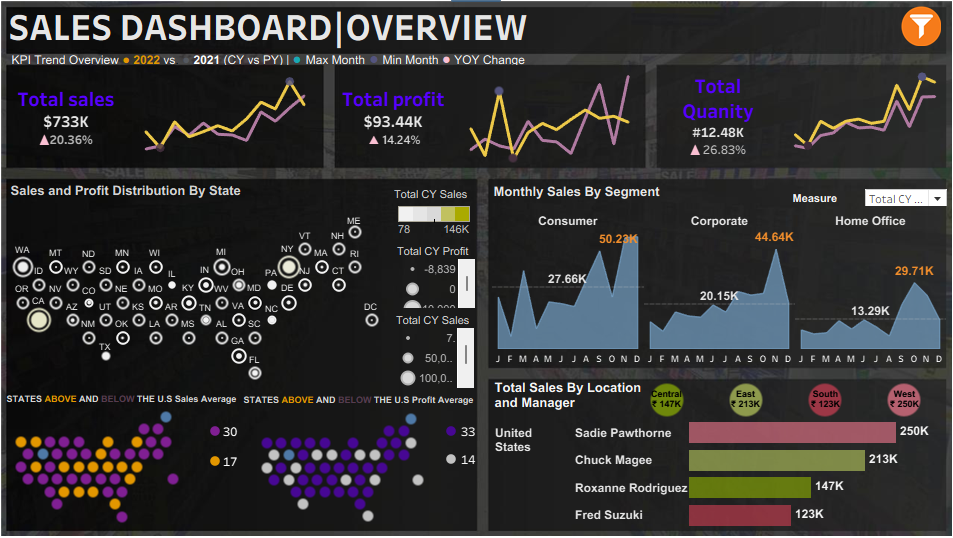

The dashboard page shown, as its layout file describes it:
{"tool":"tableau","page":{"name":"Sales Dashboard","canvas":[999,580],"ordinal":0},"visuals":[{"type":"image","param":"Image/Sales Dashboard Background.pptx.jpg","box":[8,8,983,543]},{"type":"dashboard-object","box":[921,17,47,40]},{"type":"text","box":[29,19,545,46]},{"type":"filter","title":"Sales and profit by state","param":"[federated.15e5lh70ks18o413ukp1u090hqqv].[none:Region:nk]","box":[759,60,154,52]},{"type":"text","box":[32,64,528,12]},{"type":"worksheet","title":"Qty KPI ","mark":"Automatic","box":[686,83,121,101]},{"type":"worksheet","title":"Qty sparkline ","mark":"Automatic","rows":["Calculation_609111855681368065"],"cols":["Order Date"],"box":[807,83,173,101]},{"type":"worksheet","title":"profit KPI ","mark":"Automatic","box":[357,84,118,101]},{"type":"worksheet","title":"Profit sparkline","mark":"Automatic","rows":["Calculation_609111855678111744"],"cols":["Order Date"],"box":[475,84,194,101]},{"type":"worksheet","title":"Sales KPI ","mark":"Automatic","box":[18,87,123,95]},{"type":"worksheet","title":"sales sparkline","mark":"Automatic","rows":["Calculation_180988415876784128"],"cols":["Order Date"],"box":[141,87,195,95]},{"type":"filter","title":"Sales and profit by state","param":"[federated.15e5lh70ks18o413ukp1u090hqqv].[none:Ship Mode:nk]","box":[759,112,154,52]},{"type":"filter","title":"Sales and profit by state","param":"[federated.15e5lh70ks18o413ukp1u090hqqv].[none:Category:nk]","box":[759,164,154,52]},{"type":"text","box":[514,190,212,25]},{"type":"text","box":[31,195,301,36]},{"type":"legend","title":"Sales and profit by state","param":"[federated.15e5lh70ks18o413ukp1u090hqqv].[sum:Calculation_1029353995550695424:qk","box":[417,199,80,51]},{"type":"parameter","param":"[Parameters].[Parameter 1]","box":[813,200,160,17]},{"type":"worksheet","title":"Monthly Sales By Segment","mark":"Area","rows":["Calculation_919860231210176519"],"cols":["Segment","Order Date"],"box":[515,222,455,158]},{"type":"worksheet","title":"Sales and profit by state","mark":"Circle","rows":["Row"],"cols":["Column","Column"],"box":[19,225,399,177]},{"type":"legend","title":"Sales and profit by state","param":"[federated.15e5lh70ks18o413ukp1u090hqqv].[sum:Calculation_1029353995561582596:qk","box":[420,256,80,63]},{"type":"legend","title":"Sales and profit by state","param":"[federated.15e5lh70ks18o413ukp1u090hqqv].[sum:Calculation_1029353995550695424:qk","box":[419,325,80,74]},{"type":"text","box":[515,391,154,30]},{"type":"worksheet","title":"Region wise Sales","mark":"Circle","cols":["Region"],"box":[650,392,317,38]},{"type":"text","box":[27,399,237,17]},{"type":"text","box":[264,402,236,15]},{"type":"worksheet","title":"Avg sales by state","mark":"Circle","rows":["Row"],"cols":["Column"],"box":[31,415,178,125]},{"type":"worksheet","title":"Avg Profit by state ","mark":"Circle","rows":["Row"],"cols":["Column"],"box":[277,418,177,121]},{"type":"worksheet","title":"Total sales By Location and Manager","mark":"Automatic","rows":["Country/Region","Regional Manager"],"cols":["Calculation_1029353995550695424"],"box":[512,430,454,110]},{"type":"worksheet","title":"Avg Sales By State count","mark":"Circle","rows":["Calculation_919860231146348546"],"box":[198,462,51,60]},{"type":"worksheet","title":"Avg Profit By State count","mark":"Circle","rows":["sales Avg Color (copy)_919860231151083525"],"box":[437,465,55,56]},{"type":"text","box":[8,551,983,21]}]}

Visuals, with their boxes in screenshot pixels (x1, y1, x2, y2), scaled from the page's 999x580 canvas onto the 953x538 screenshot:
image: Rect(8, 7, 945, 511)
dashboard-object: Rect(879, 16, 923, 53)
text: Rect(28, 18, 548, 60)
"Sales and profit by state" filter: Rect(724, 56, 871, 104)
text: Rect(31, 59, 534, 70)
"Qty KPI " worksheet: Rect(654, 77, 770, 171)
"Qty sparkline " worksheet: Rect(770, 77, 935, 171)
"profit KPI " worksheet: Rect(341, 78, 453, 172)
"Profit sparkline" worksheet: Rect(453, 78, 638, 172)
"Sales KPI " worksheet: Rect(17, 81, 135, 169)
"sales sparkline" worksheet: Rect(135, 81, 321, 169)
"Sales and profit by state" filter: Rect(724, 104, 871, 152)
"Sales and profit by state" filter: Rect(724, 152, 871, 200)
text: Rect(490, 176, 693, 199)
text: Rect(30, 181, 317, 214)
"Sales and profit by state" legend: Rect(398, 185, 474, 232)
parameter: Rect(776, 186, 928, 201)
"Monthly Sales By Segment" worksheet (Area marks): Rect(491, 206, 925, 352)
"Sales and profit by state" worksheet (Circle marks): Rect(18, 209, 399, 373)
"Sales and profit by state" legend: Rect(401, 237, 477, 296)
"Sales and profit by state" legend: Rect(400, 301, 476, 370)
text: Rect(491, 363, 638, 391)
"Region wise Sales" worksheet (Circle marks): Rect(620, 364, 922, 399)
text: Rect(26, 370, 252, 386)
text: Rect(252, 373, 477, 387)
"Avg sales by state" worksheet (Circle marks): Rect(30, 385, 199, 501)
"Avg Profit by state " worksheet (Circle marks): Rect(264, 388, 433, 500)
"Total sales By Location and Manager" worksheet: Rect(488, 399, 922, 501)
"Avg Sales By State count" worksheet (Circle marks): Rect(189, 429, 238, 484)
"Avg Profit By State count" worksheet (Circle marks): Rect(417, 431, 469, 483)
text: Rect(8, 511, 945, 531)
